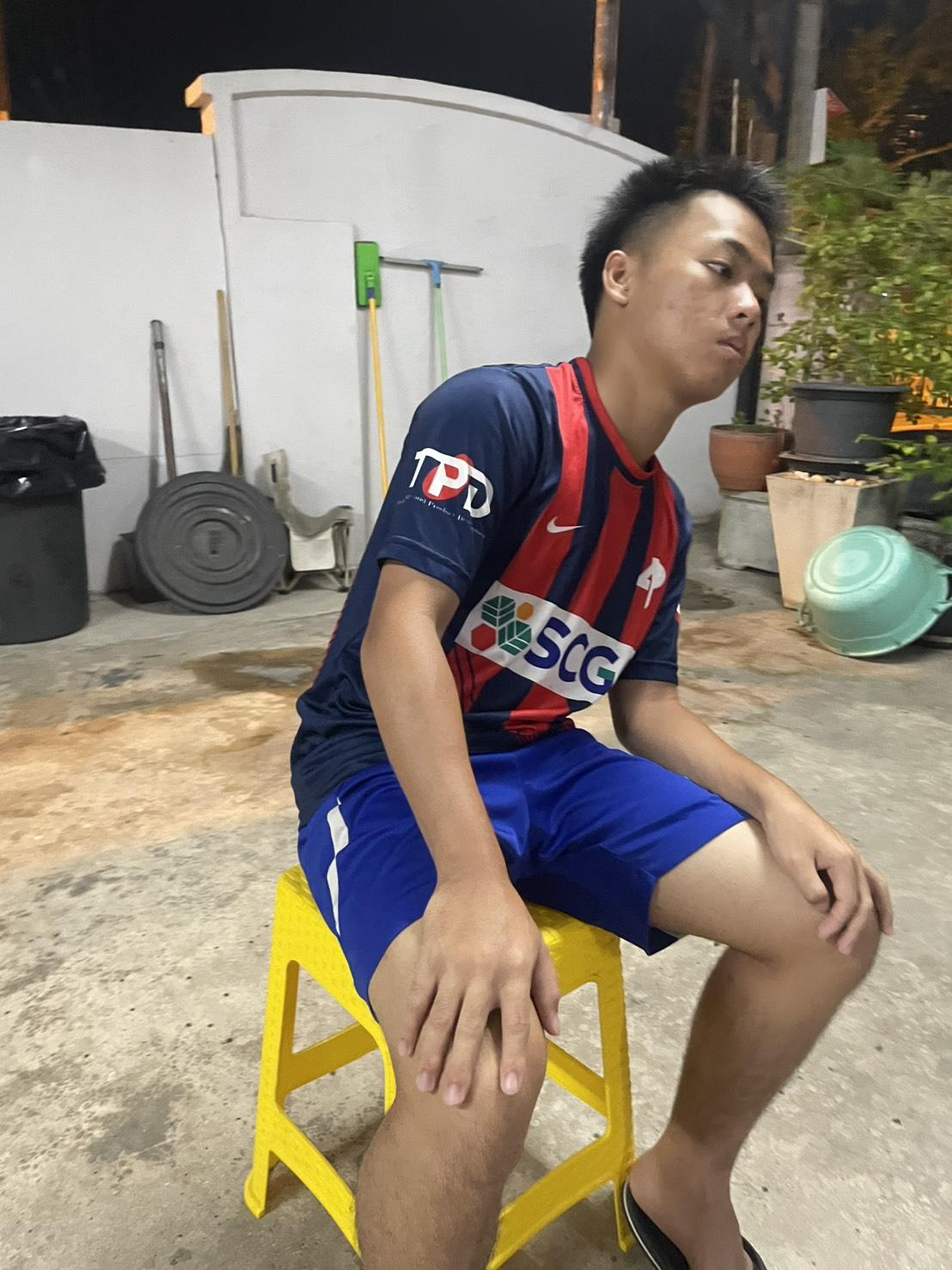BadPosture: (291, 158, 782, 827)
